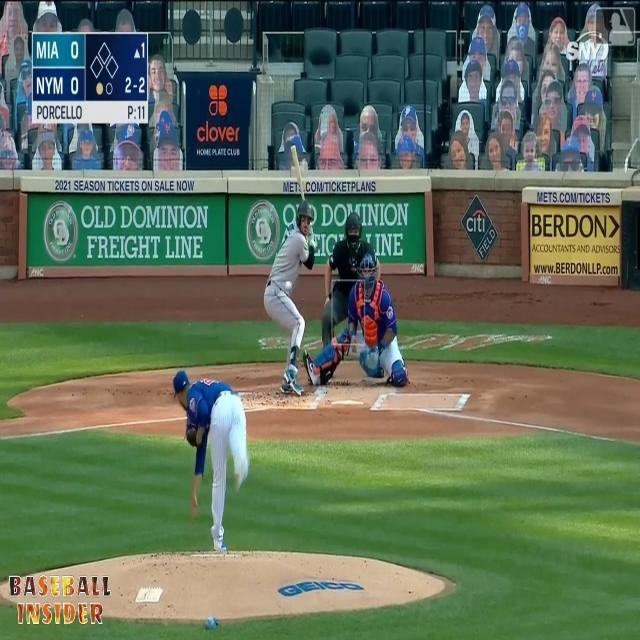baseball: (284, 280, 292, 292)
